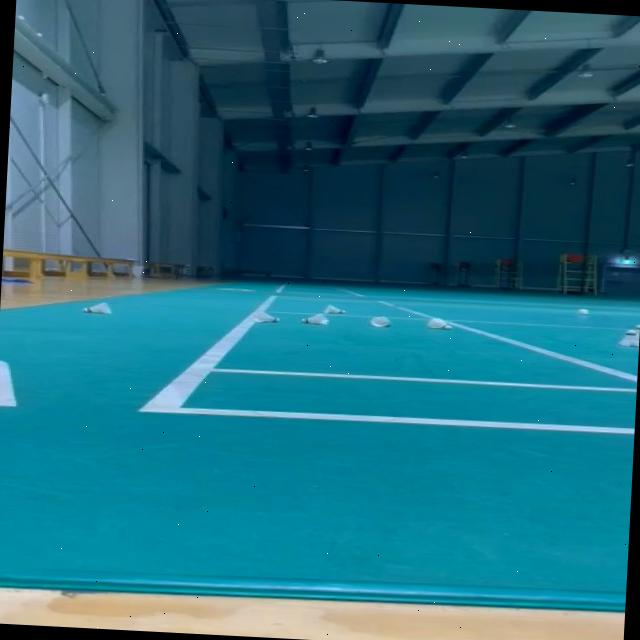Shuttle: (250, 308, 282, 324), (83, 300, 112, 316), (299, 311, 328, 325), (618, 327, 638, 347), (424, 316, 452, 330), (368, 314, 394, 328), (323, 302, 348, 316), (629, 322, 640, 343), (576, 308, 590, 316)
